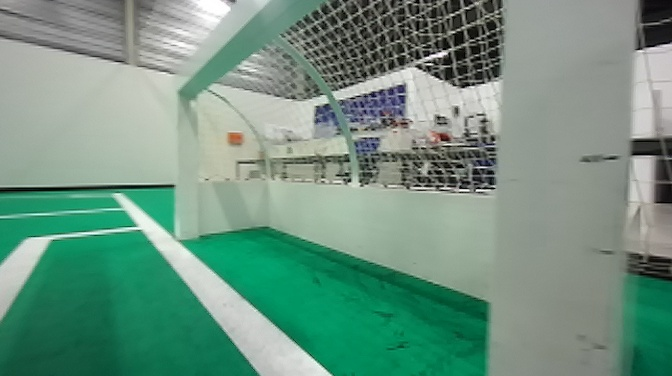goalpost: (499, 2, 626, 376), (170, 81, 199, 242)
